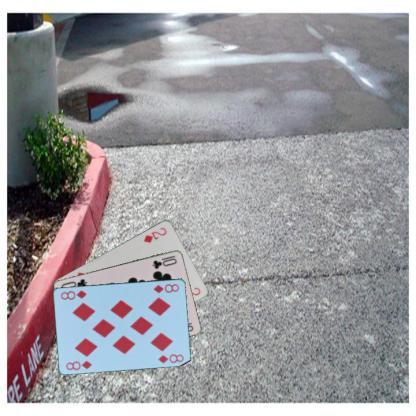10c: (150, 252, 178, 270)
2d: (142, 225, 168, 244)
8d: (64, 358, 93, 372), (150, 281, 180, 294)
